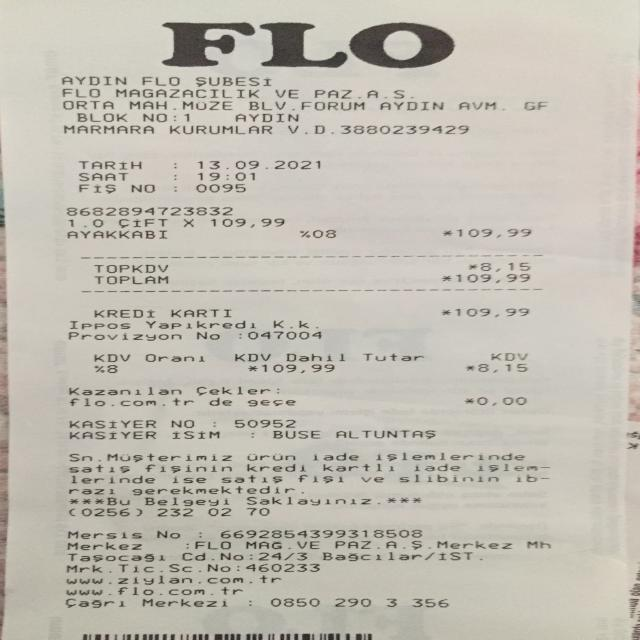text: (162, 18, 456, 68), (65, 574, 280, 585), (287, 122, 467, 134), (219, 528, 420, 538), (131, 484, 293, 496), (115, 86, 258, 99), (65, 205, 231, 216), (375, 449, 523, 461), (334, 539, 510, 549), (65, 586, 242, 595), (105, 450, 230, 462), (248, 99, 362, 112), (63, 563, 208, 573), (144, 318, 254, 331), (68, 395, 194, 406), (246, 495, 369, 506), (128, 99, 231, 112), (197, 159, 318, 170), (67, 330, 180, 341), (68, 385, 180, 396), (169, 122, 270, 134), (66, 228, 165, 240), (398, 472, 497, 484), (66, 550, 164, 562), (314, 88, 411, 100), (62, 122, 153, 134), (336, 428, 434, 439), (322, 550, 419, 561), (144, 462, 230, 474), (68, 418, 155, 429), (141, 597, 226, 608), (70, 473, 153, 484), (194, 76, 270, 88), (322, 461, 392, 474), (66, 528, 141, 540), (94, 273, 168, 285), (454, 306, 528, 318), (195, 384, 268, 396), (68, 430, 155, 440), (210, 216, 282, 228), (477, 461, 549, 473), (143, 496, 227, 506), (379, 99, 442, 112), (454, 272, 528, 283), (93, 306, 154, 319), (262, 362, 334, 373), (68, 462, 128, 475), (455, 228, 529, 238), (247, 330, 321, 340), (245, 562, 319, 572), (93, 263, 166, 273), (170, 306, 230, 318), (234, 417, 294, 429), (220, 472, 280, 484), (61, 75, 126, 86), (69, 319, 128, 331), (234, 111, 298, 122), (246, 462, 304, 474), (77, 159, 140, 170), (362, 351, 422, 362), (62, 99, 112, 112), (65, 597, 124, 608), (286, 351, 344, 362), (246, 449, 294, 462), (198, 171, 254, 182), (248, 395, 294, 408), (312, 449, 358, 462), (412, 461, 458, 474), (67, 484, 113, 497), (66, 542, 140, 550), (144, 352, 202, 362), (261, 550, 309, 562), (476, 362, 526, 373), (476, 395, 526, 406), (297, 472, 342, 484), (77, 111, 126, 122), (78, 171, 126, 182), (118, 217, 166, 228), (80, 506, 128, 517), (270, 597, 318, 608), (196, 182, 243, 193), (170, 430, 221, 440), (272, 429, 318, 440), (74, 182, 116, 194), (479, 261, 529, 271), (458, 99, 494, 112), (141, 75, 178, 87), (62, 86, 98, 98), (386, 494, 420, 506), (334, 597, 370, 608), (412, 597, 448, 608), (268, 319, 312, 328), (67, 217, 102, 228), (245, 539, 280, 550), (172, 472, 204, 484), (157, 506, 191, 517), (233, 352, 270, 362), (93, 352, 128, 362), (68, 496, 103, 506), (194, 540, 228, 550), (208, 395, 231, 408), (68, 450, 91, 463), (521, 100, 548, 111), (182, 550, 206, 562), (218, 550, 242, 562), (491, 352, 526, 360), (438, 552, 472, 560), (204, 562, 231, 572), (275, 87, 297, 99), (142, 111, 166, 122), (170, 418, 192, 430), (156, 528, 178, 540), (130, 182, 153, 193), (105, 496, 128, 507), (361, 472, 382, 484), (526, 538, 548, 549), (195, 330, 218, 340), (207, 506, 230, 516), (246, 506, 268, 516), (312, 229, 334, 238), (298, 540, 316, 550), (440, 306, 450, 318), (440, 272, 450, 283), (182, 216, 191, 228), (464, 396, 474, 406), (467, 261, 476, 272), (247, 362, 256, 373), (464, 362, 473, 373), (424, 550, 433, 561), (386, 597, 395, 608), (248, 550, 256, 562), (442, 228, 451, 238), (210, 550, 217, 562), (94, 364, 103, 373), (107, 364, 116, 373), (299, 229, 309, 237), (184, 111, 189, 122), (68, 506, 73, 517), (136, 506, 140, 517), (300, 483, 303, 496), (276, 384, 278, 396), (377, 494, 378, 506)
